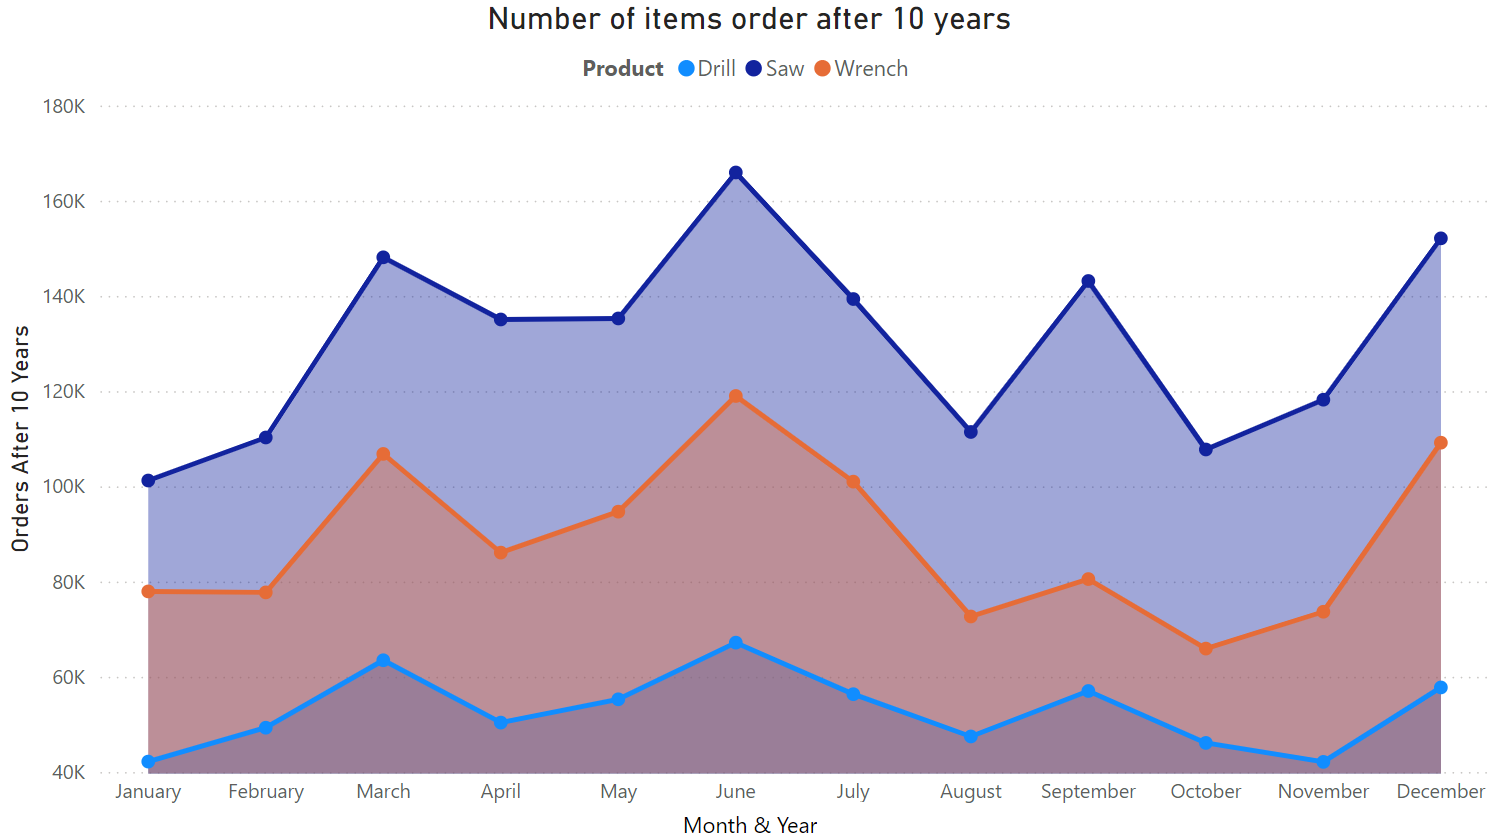

This screenshot's page, from the dashboard's own definition file:
{"tool":"powerbi","page":{"name":"10 Years After","canvas":[1280,720],"ordinal":4},"visuals":[{"type":"shape","box":[556.5,6.7,168.4,47],"z":0},{"type":"shape","box":[172.7,93.4,934.8,533.3],"z":1000},{"type":"lineChart","title":"Number of items order after 10 years","fields":{"Y":["Sum(after 10 years.Order Qty After 10)"],"Series":["Product_info.Product Desc"],"Category":["after 10 years.Order Dt.Variation.Date Hierarchy.Month"]},"box":[181.8,102.5,917.1,515],"z":2000},{"type":"shape","box":[610.8,592.5,105.6,25],"z":3000},{"type":"shape","box":[591.9,595.5,97.6,22],"z":4000},{"type":"textbox","box":[564.4,13.4,150.7,34.2],"z":5000}]}

Visuals, with their boxes in screenshot pixels (x1, y1, x2, y2), scaled from the page's 1280x720 canvas onto the 1499x840 screenshot:
shape: (652,8,849,63)
shape: (202,109,1297,731)
"Number of items order after 10 years" lineChart: (213,120,1287,720)
shape: (715,691,839,720)
shape: (693,695,807,720)
textbox: (661,16,837,56)
